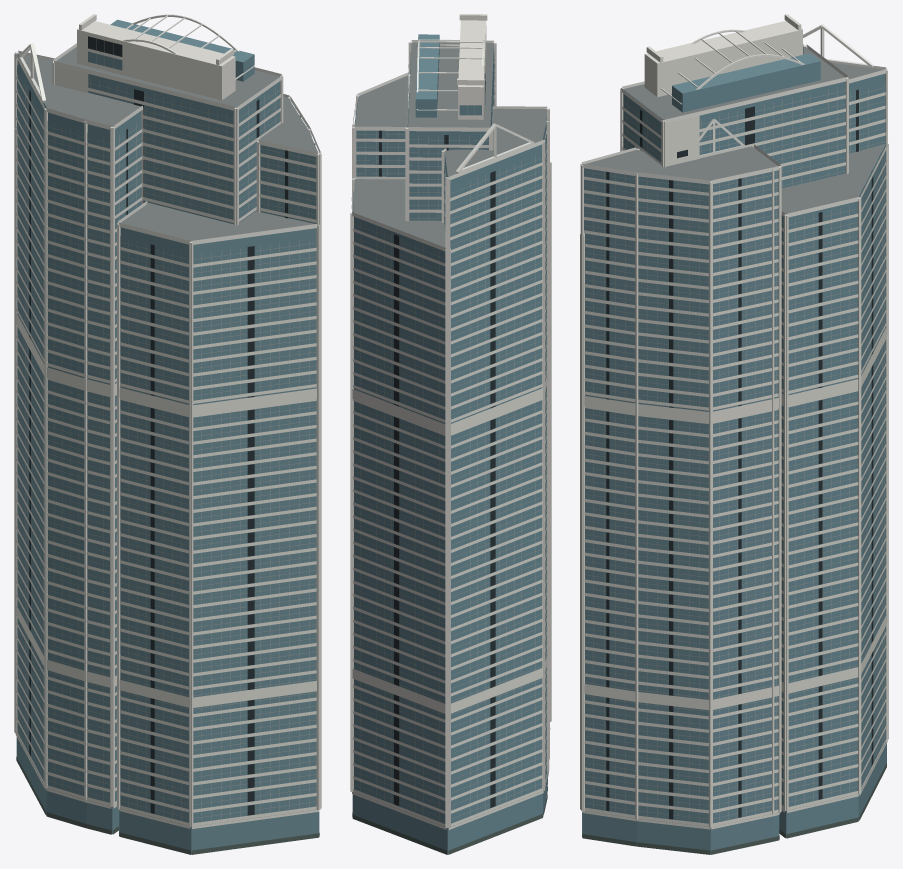
File: bespoke-tower-palace-f.glb
3 views of the same model, side by side, from view 1: azimuth 30°, elevation 25°; view 2: azimuth 150°, elevation 25°; view 3: azimuth 270°, elevation 25° (orthographic). The views are drawn at different scales.
Visible parts, largest first — view 1: F_03_reentrant_blue_banks_2, F_02_broad_white_spandrels, F_04_solid_core_and_vent_axes, F_01_angular_stepped_five_part_body_2, F_03_reentrant_blue_banks_1, F_05_open_triangular_roof_frames_3, F_03_reentrant_blue_banks_3, F_07_ground_lobby_2, F_01_angular_stepped_five_part_body_1, F_05_open_triangular_roof_frames_2, F_07_ground_lobby_3, F_07_ground_lobby_1 (+1 smaller); view 2: F_03_reentrant_blue_banks_2, F_02_broad_white_spandrels, F_04_solid_core_and_vent_axes, F_03_reentrant_blue_banks_1, F_01_angular_stepped_five_part_body_2, F_05_open_triangular_roof_frames_3, F_03_reentrant_blue_banks_3, F_07_ground_lobby_2, F_05_open_triangular_roof_frames_2, F_01_angular_stepped_five_part_body_1, F_07_ground_lobby_3, F_06_two_open_roof_arches (+2 smaller); view 3: F_03_reentrant_blue_banks_2, F_02_broad_white_spandrels, F_04_solid_core_and_vent_axes, F_01_angular_stepped_five_part_body_2, F_03_reentrant_blue_banks_1, F_03_reentrant_blue_banks_3, F_05_open_triangular_roof_frames_3, F_07_ground_lobby_2, F_01_angular_stepped_five_part_body_1, F_05_open_triangular_roof_frames_2, F_07_ground_lobby_3, F_06_two_open_roof_arches (+1 smaller).
Part boxes in pixels (bbox=[...]): F_03_reentrant_blue_banks_2: bbox=[17, 51, 317, 822]; F_02_broad_white_spandrels: bbox=[16, 76, 316, 826]; F_04_solid_core_and_vent_axes: bbox=[14, 52, 321, 827]; F_01_angular_stepped_five_part_body_2: bbox=[17, 19, 317, 854]; F_03_reentrant_blue_banks_1: bbox=[17, 39, 315, 821]; F_05_open_triangular_roof_frames_3: bbox=[18, 47, 317, 241]; F_03_reentrant_blue_banks_3: bbox=[29, 36, 315, 815]; F_07_ground_lobby_2: bbox=[16, 737, 319, 850]; F_01_angular_stepped_five_part_body_1: bbox=[77, 21, 235, 100]; F_05_open_triangular_roof_frames_2: bbox=[15, 43, 320, 244]; F_07_ground_lobby_3: bbox=[16, 756, 319, 854]; F_07_ground_lobby_1: bbox=[15, 733, 320, 828]; F_03_reentrant_blue_banks_2: bbox=[353, 51, 546, 823]; F_02_broad_white_spandrels: bbox=[352, 64, 547, 826]; F_04_solid_core_and_vent_axes: bbox=[350, 41, 551, 827]; F_03_reentrant_blue_banks_1: bbox=[354, 105, 541, 820]; F_01_angular_stepped_five_part_body_2: bbox=[353, 34, 547, 854]; F_05_open_triangular_roof_frames_3: bbox=[353, 42, 546, 247]; F_03_reentrant_blue_banks_3: bbox=[355, 73, 495, 807]; F_07_ground_lobby_2: bbox=[352, 771, 548, 850]; F_05_open_triangular_roof_frames_2: bbox=[351, 40, 550, 251]; F_01_angular_stepped_five_part_body_1: bbox=[458, 20, 486, 119]; F_07_ground_lobby_3: bbox=[352, 771, 548, 854]; F_06_two_open_roof_arches: bbox=[416, 39, 484, 110]; F_03_reentrant_blue_banks_2: bbox=[584, 47, 885, 822]; F_02_broad_white_spandrels: bbox=[584, 92, 886, 826]; F_04_solid_core_and_vent_axes: bbox=[580, 45, 888, 827]; F_01_angular_stepped_five_part_body_2: bbox=[584, 53, 885, 854]; F_03_reentrant_blue_banks_1: bbox=[584, 87, 886, 821]; F_03_reentrant_blue_banks_3: bbox=[606, 89, 873, 819]; F_05_open_triangular_roof_frames_3: bbox=[585, 46, 885, 214]; F_07_ground_lobby_2: bbox=[582, 743, 886, 850]; F_01_angular_stepped_five_part_body_1: bbox=[644, 21, 802, 97]; F_05_open_triangular_roof_frames_2: bbox=[581, 24, 887, 234]; F_07_ground_lobby_3: bbox=[582, 763, 886, 854]; F_06_two_open_roof_arches: bbox=[660, 29, 804, 104].
Size of the model in its own units: 57.61 by 191 by 70.48.
